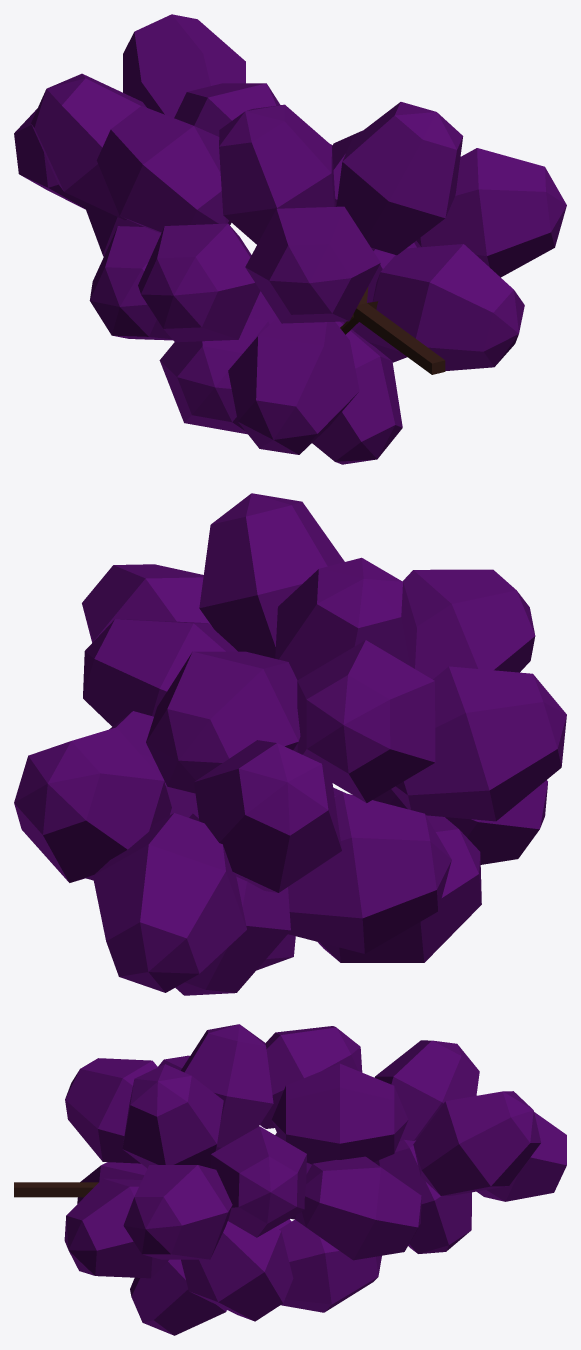
The model's file is Grapes_01.obj.
3 views of the same model, one above another, from view 1: azimuth 30°, elevation 25°; view 2: azimuth 150°, elevation 25°; view 3: azimuth 270°, elevation 25° (orthographic). The views are drawn at different scales.
Parts seen in each view (by area): view 1: pasted__pSphere26 group; view 2: pasted__pSphere26 group; view 3: pasted__pSphere26 group.
Part boxes in pixels (x1,y1,x2,y2): pasted__pSphere26 group: [14, 14, 566, 464]; pasted__pSphere26 group: [14, 493, 566, 995]; pasted__pSphere26 group: [14, 1024, 566, 1335].
Bounding box in the file's own units: 63.26 × 51.3 × 90.7.
